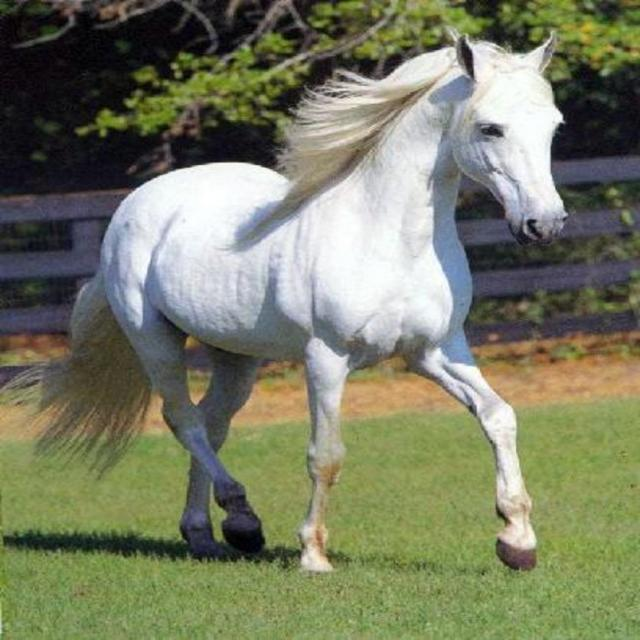Horse: (0, 24, 571, 572)
